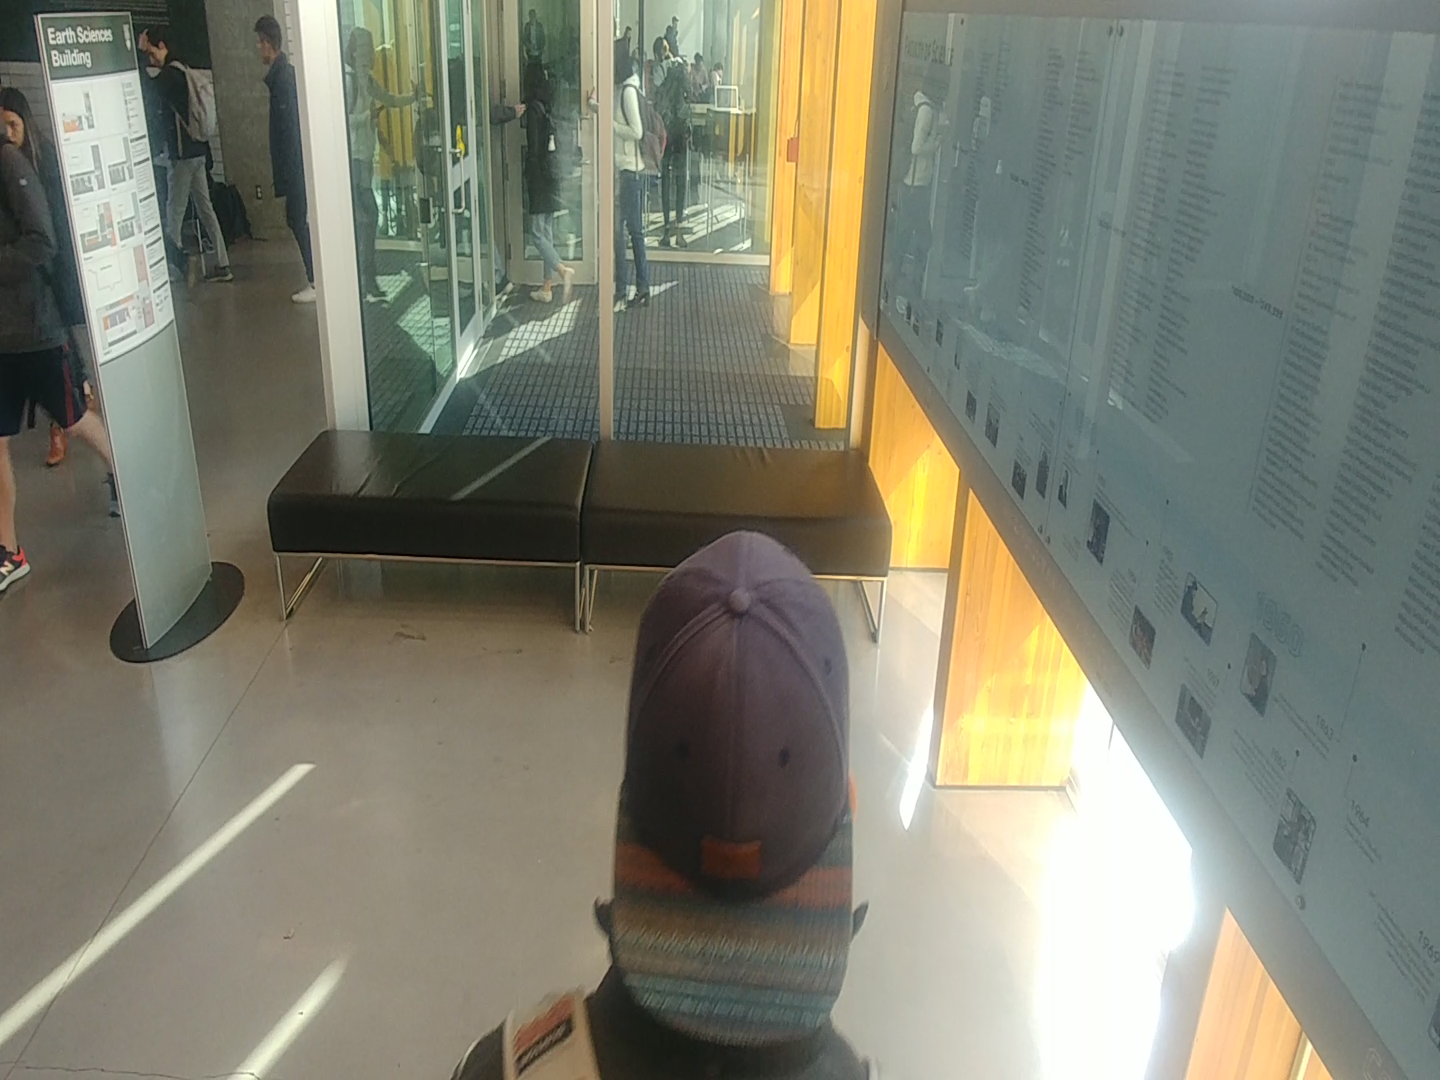face: (590, 512, 909, 1060), (1, 68, 51, 156), (0, 69, 43, 160), (509, 48, 564, 113), (134, 18, 187, 82), (246, 8, 291, 76), (646, 30, 683, 72)
human: (432, 523, 914, 1080), (134, 10, 240, 310), (247, 6, 316, 326), (516, 49, 581, 314), (613, 31, 663, 345), (642, 29, 698, 257)
